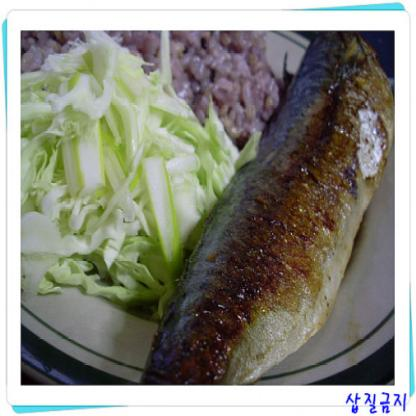Peixe: (130, 32, 404, 388)
